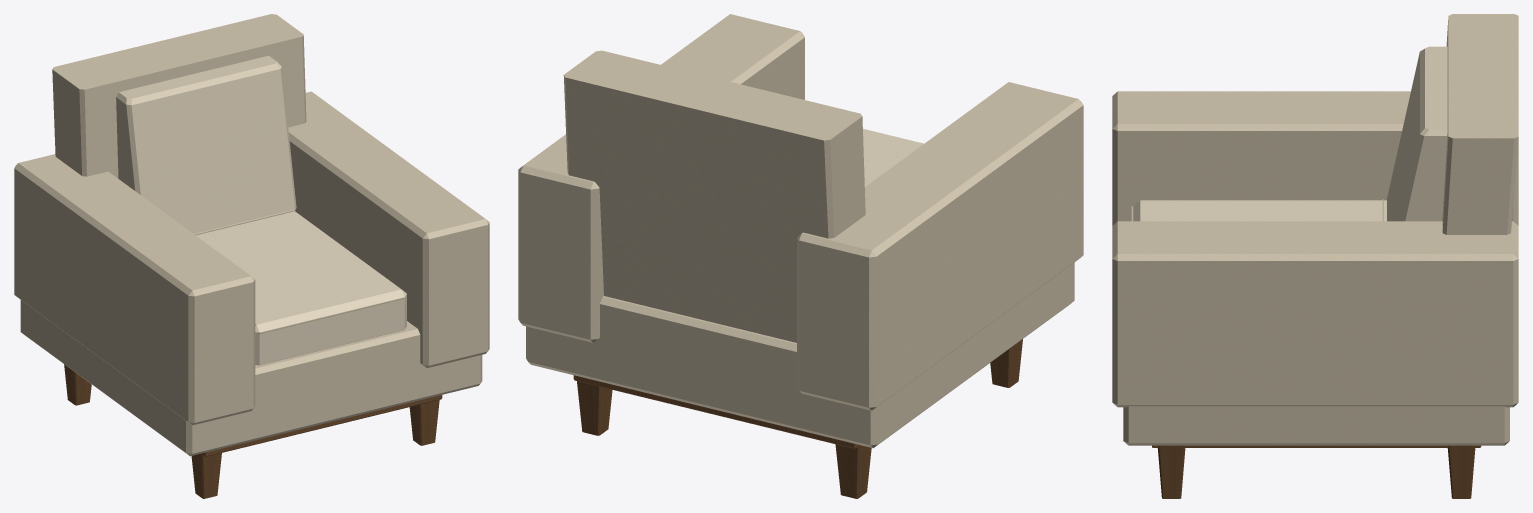
Rendered from armchair.glb.
3 renders of one model, left to right at view 1: azimuth 30°, elevation 25°; view 2: azimuth 150°, elevation 25°; view 3: azimuth 270°, elevation 25°, orthographic. The views are drawn at different scales.
Visible parts, largest first — view 1: home_armchair; view 2: home_armchair; view 3: home_armchair.
Part boxes in pixels (box(x1,y1,x2,y2)): home_armchair: box(14, 14, 489, 498); home_armchair: box(518, 14, 1083, 498); home_armchair: box(1112, 14, 1518, 498).
Size of the model in its own units: 0.9 by 0.9 by 0.925.
Materials: 1 (1 with a texture image).
